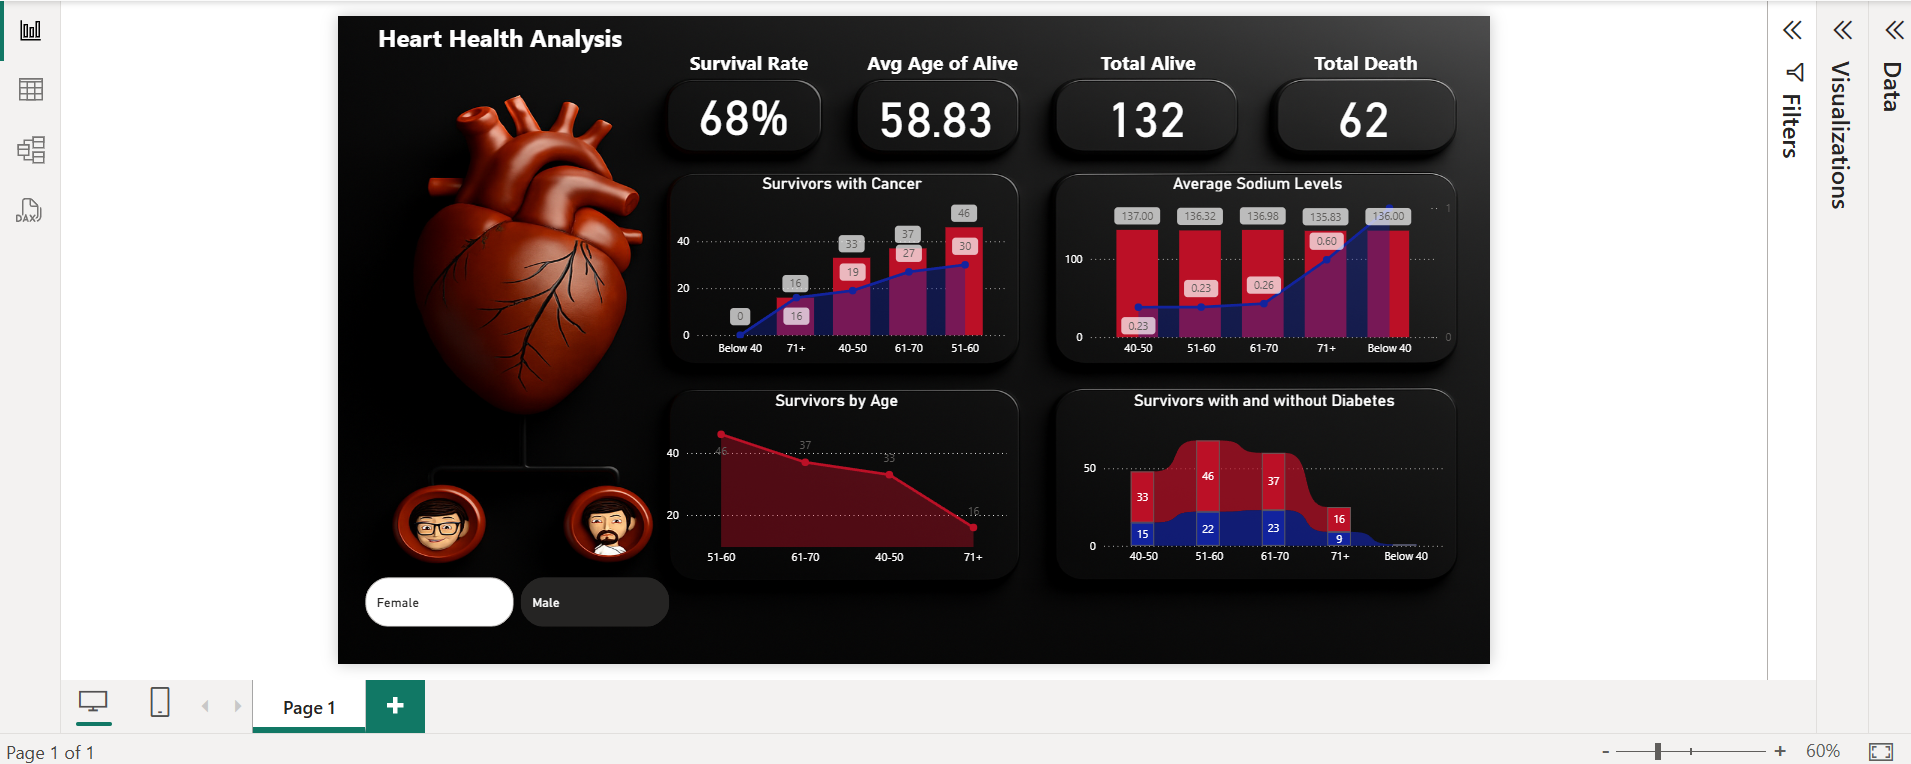

The page's visual inventory and layout, read from the dashboard file:
{"tool":"powerbi","page":{"name":"Page 1","canvas":[1280,720],"ordinal":0},"visuals":[{"type":"textbox","box":[0,0,360,51.7],"z":0},{"type":"card","fields":{"Values":["heart_Disease_clinical_records_.Alive_prc"]},"box":[342,57.3,216.3,98.6],"z":1000},{"type":"card","fields":{"Values":["heart_Disease_clinical_records_.Alive_avg"]},"box":[558.3,62,210,93.8],"z":2000},{"type":"card","fields":{"Values":["heart_Disease_clinical_records_.Total_alive"]},"box":[782.6,62,229,93.8],"z":3000},{"type":"card","fields":{"Values":["heart_Disease_clinical_records_.Total_Death"]},"box":[1032.3,62,214.7,93.8],"z":4000},{"type":"lineClusteredColumnComboChart","title":"Survivors with Cancer","fields":{"Y":["heart_Disease_clinical_records_.Total_alive"],"Y2":["Sum(heart_Disease_clinical_records_.cancer)"],"Category":["heart_Disease_clinical_records_.AGE_GROUP"]},"box":[371.7,175,376.7,211.7],"z":5000},{"type":"lineClusteredColumnComboChart","title":"Average Sodium Levels","fields":{"Category":["heart_Disease_clinical_records_.AGE_GROUP"],"Y":["Avg(heart_Disease_clinical_records_.serum_sodium)"],"Y2":["Avg(heart_Disease_clinical_records_.DEATH_EVENT)"]},"box":[801.7,175,440.6,211.6],"z":6000},{"type":"lineChart","title":"Survivors by Age","fields":{"Y":["heart_Disease_clinical_records_.Total_alive"],"Category":["heart_Disease_clinical_records_.AGE_GROUP"]},"box":[359.5,416.7,388.1,202],"z":7000},{"type":"ribbonChart","title":"Survivors with and without Diabetes","fields":{"Y":["heart_Disease_clinical_records_.Total_alive","Sum(heart_Disease_clinical_records_.diabetes)"],"Category":["heart_Disease_clinical_records_.AGE_GROUP"]},"box":[823.3,416.7,411.7,201.7],"z":8000},{"type":"advancedSlicerVisual","fields":{"Values":["heart_Disease_clinical_records_.Gender"]},"box":[25.4,618.7,349.9,65.2],"z":9000},{"type":"textbox","box":[360,31.7,193.3,41.7],"z":10000},{"type":"textbox","box":[560,31.7,223.3,41.7],"z":11000},{"type":"textbox","box":[801.7,31.8,197.2,41.4],"z":12000},{"type":"textbox","box":[1032.3,31.8,221.1,41.4],"z":13000}]}

Visuals, with their boxes on the page's 1280x720 design canvas (x1, y1, x2, y2). These are canvas units, not pixel positions in the 1911x764 screenshot, which may show the page scaled, cropped or inside an application window:
textbox: <region>0, 0, 360, 52</region>
card - heart_Disease_clinical_records_.Alive_prc: <region>342, 57, 558, 156</region>
card - heart_Disease_clinical_records_.Alive_avg: <region>558, 62, 768, 156</region>
card - heart_Disease_clinical_records_.Total_alive: <region>783, 62, 1012, 156</region>
card - heart_Disease_clinical_records_.Total_Death: <region>1032, 62, 1247, 156</region>
"Survivors with Cancer" lineClusteredColumnComboChart: <region>372, 175, 748, 387</region>
"Average Sodium Levels" lineClusteredColumnComboChart: <region>802, 175, 1242, 387</region>
"Survivors by Age" lineChart: <region>360, 417, 748, 619</region>
"Survivors with and without Diabetes" ribbonChart: <region>823, 417, 1235, 618</region>
advancedSlicerVisual - heart_Disease_clinical_records_.Gender: <region>25, 619, 375, 684</region>
textbox: <region>360, 32, 553, 73</region>
textbox: <region>560, 32, 783, 73</region>
textbox: <region>802, 32, 999, 73</region>
textbox: <region>1032, 32, 1253, 73</region>
